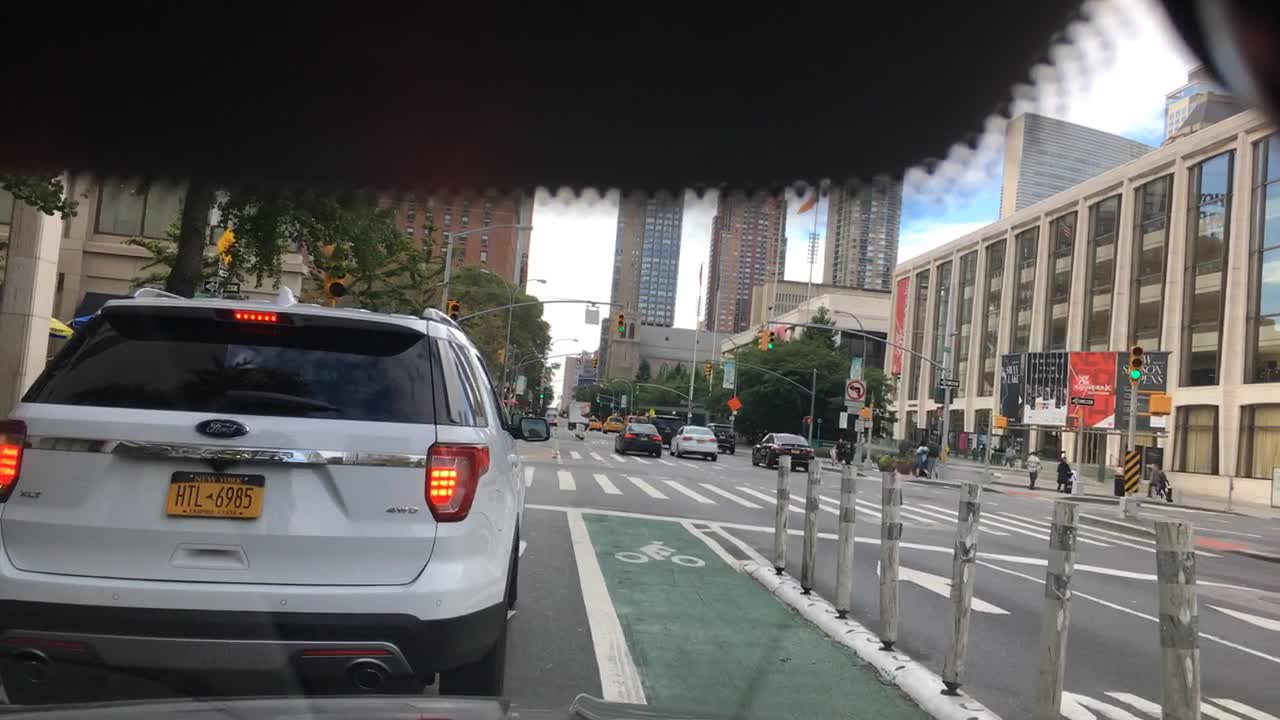car: (0, 288, 527, 708), (749, 429, 813, 468), (669, 423, 720, 459), (614, 422, 663, 456), (647, 408, 683, 442), (708, 420, 735, 452), (600, 412, 626, 435), (626, 408, 647, 423), (545, 408, 561, 427), (585, 417, 600, 430)
person: (1054, 451, 1076, 494), (1153, 462, 1174, 496), (1022, 447, 1039, 488), (914, 438, 931, 477), (931, 435, 944, 479), (1004, 440, 1015, 469), (981, 441, 987, 465), (970, 449, 977, 464)
traffic light: (318, 233, 354, 305), (1128, 340, 1146, 387), (1144, 389, 1174, 414), (761, 329, 777, 351), (756, 324, 768, 353), (989, 412, 1009, 429), (492, 344, 506, 366), (616, 311, 628, 336), (827, 330, 841, 350), (445, 301, 460, 319), (937, 377, 962, 387), (589, 351, 599, 373), (703, 359, 712, 378), (854, 418, 864, 435), (595, 386, 602, 403)
traffic sign: (1120, 447, 1144, 498), (844, 375, 865, 405), (720, 359, 734, 391), (583, 307, 604, 325), (725, 394, 744, 413), (1068, 395, 1095, 407), (516, 372, 528, 399), (857, 404, 874, 419), (838, 412, 848, 429)
truck: (565, 399, 592, 434)
